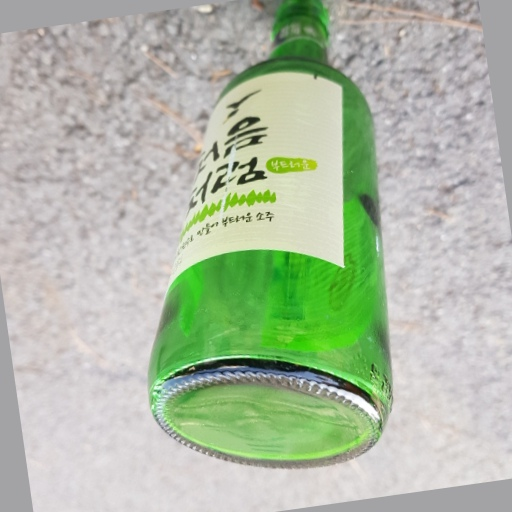Glass_0: (146, 1, 397, 464)
